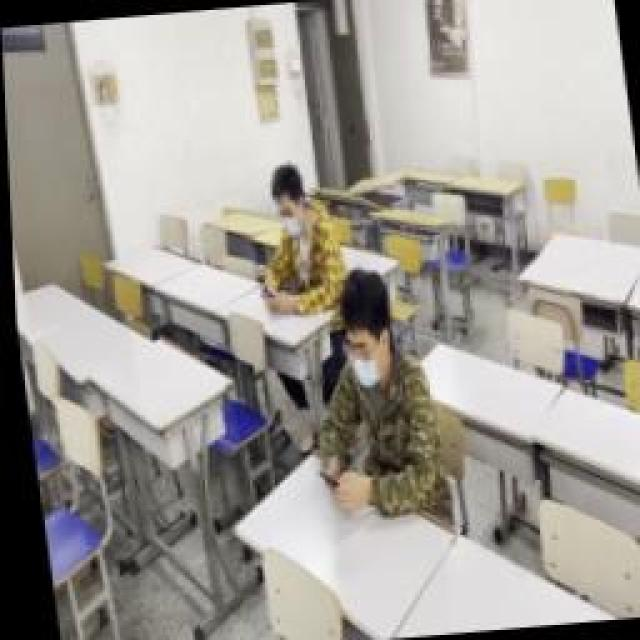phone: (292, 305, 442, 520), (245, 162, 337, 312)
